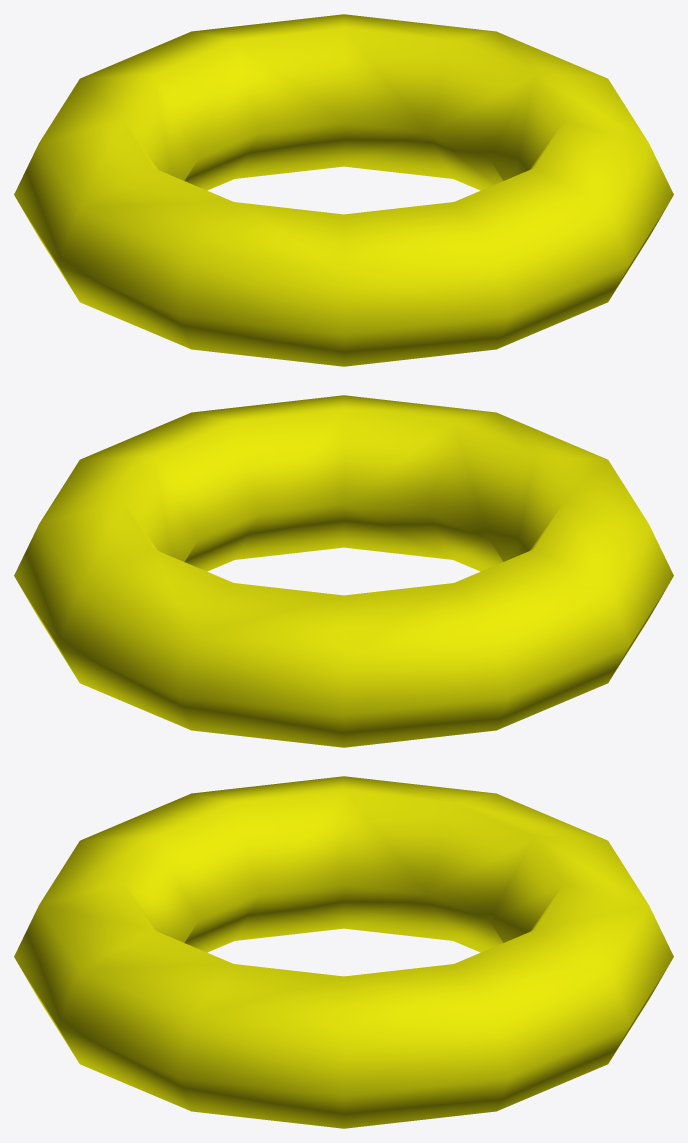
3 renders of one model, top to bottom at view 1: azimuth 30°, elevation 25°; view 2: azimuth 150°, elevation 25°; view 3: azimuth 270°, elevation 25°, orthographic.
Visible parts, largest first — view 1: pasted__trap_001; view 2: pasted__trap_001; view 3: pasted__trap_001.
Part boxes in pixels (x1,y1,x2,y2): pasted__trap_001: (14,14,673,366); pasted__trap_001: (14,395,673,747); pasted__trap_001: (14,776,673,1128).
Bounding box in the file's own units: 1.59 × 0.3649 × 1.59.
1 material, 1 textured.
